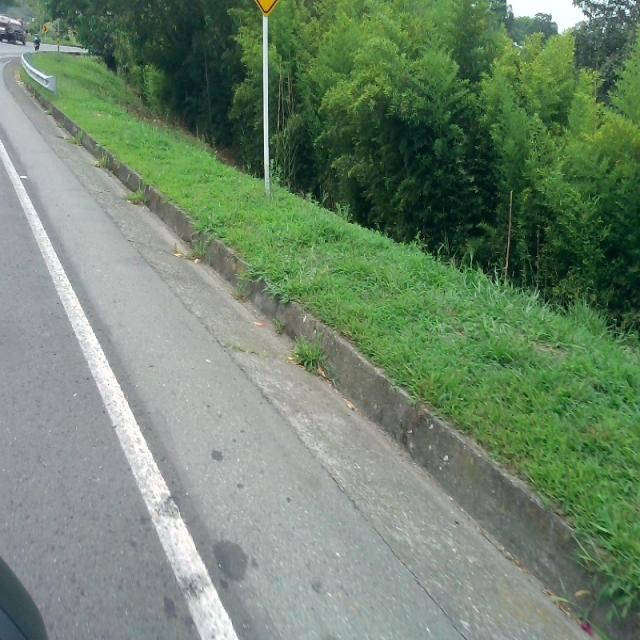DITCH: (2, 51, 636, 638)
